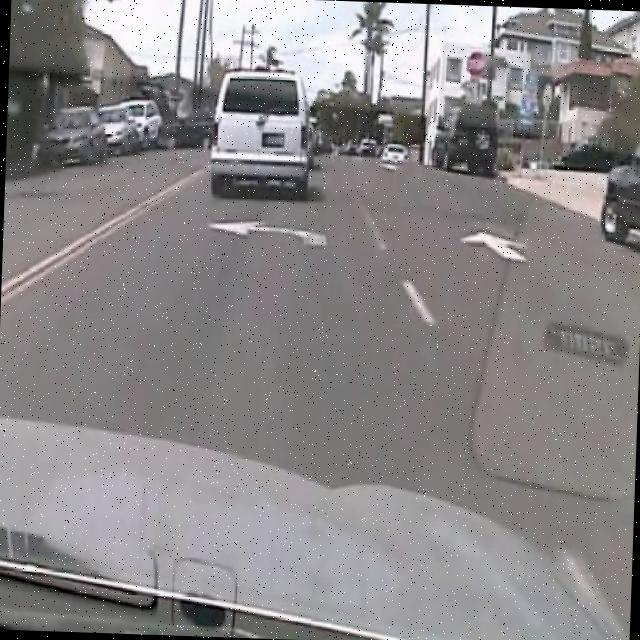Stop: (464, 49, 486, 77)
